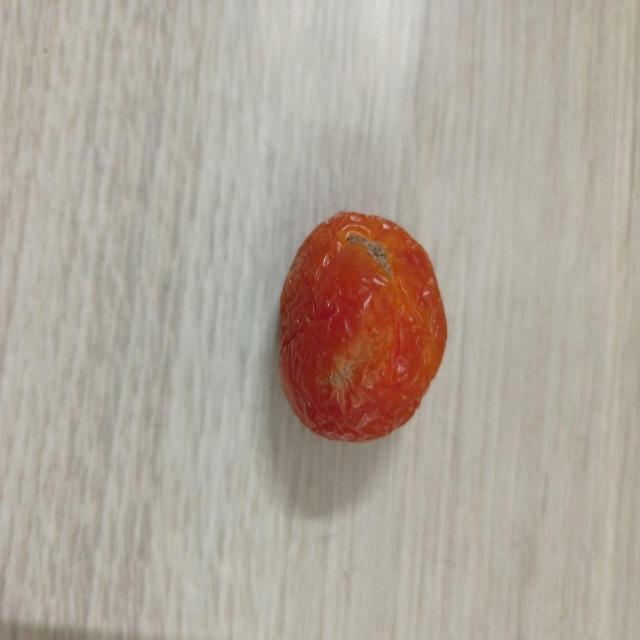overripe: (278, 206, 448, 446)
